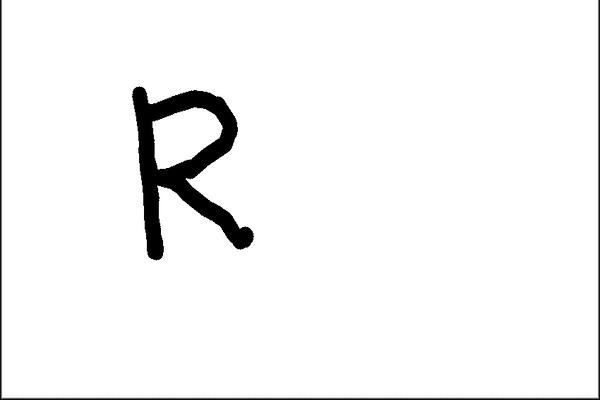R: (114, 76, 269, 270)
